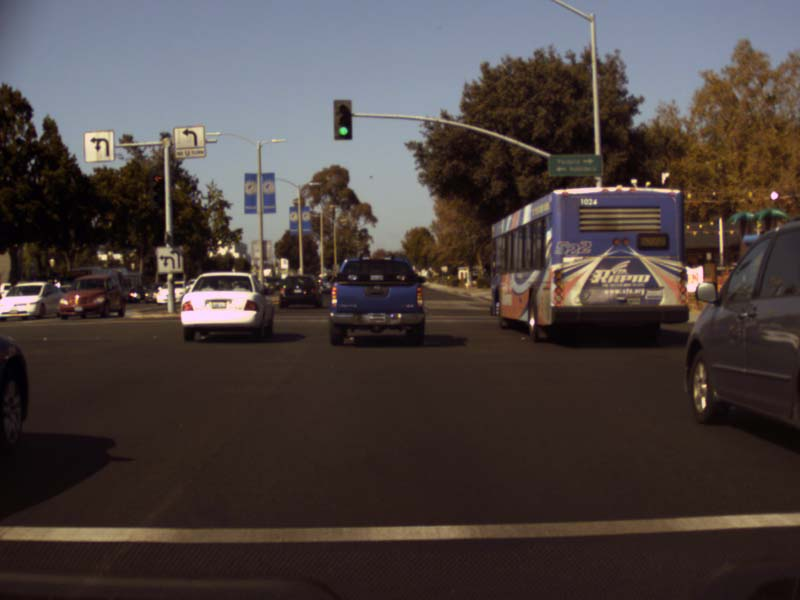Green: (333, 100, 351, 139)
Red: (150, 170, 164, 207)
